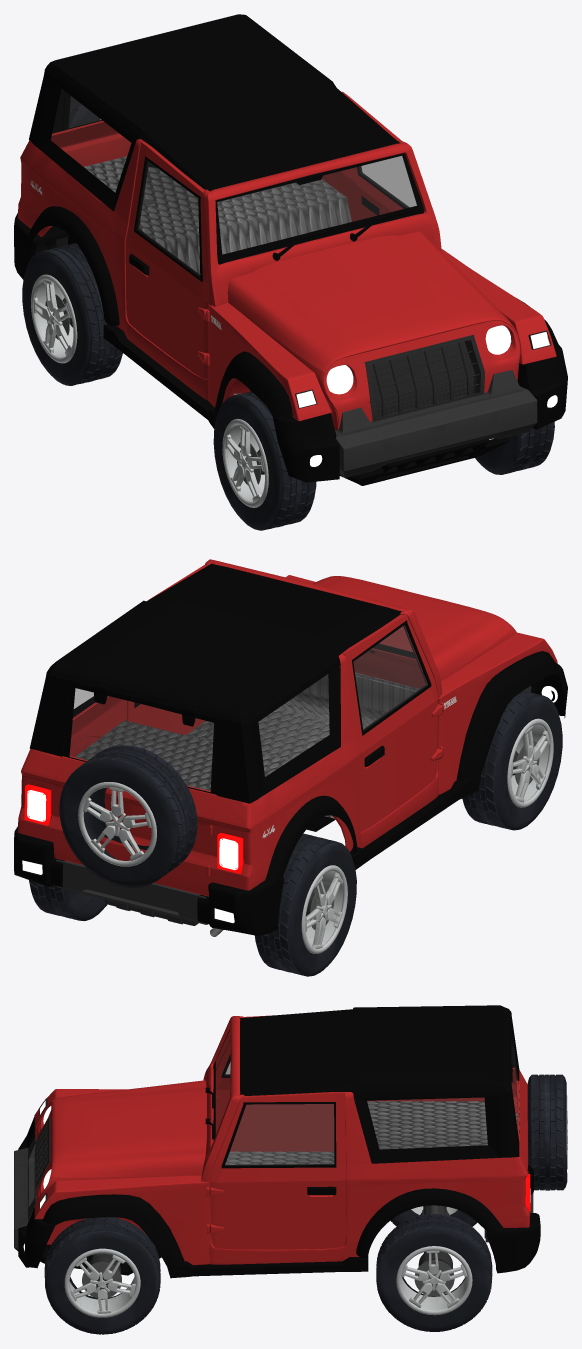
Rendered from 12-thar.glb.
3 renders of one model, top to bottom at view 1: azimuth 30°, elevation 25°; view 2: azimuth 150°, elevation 25°; view 3: azimuth 270°, elevation 25°, orthographic. The views are drawn at different scales.
Visible parts, largest first — view 1: Object_20, Object_16, Object_39, Object_41, Object_31, Object_6, Object_18, Object_45, Object_43, Object_4, Object_34, Object_47 (+11 smaller); view 2: Object_20, Object_31, Object_41, Object_39, Object_18, Object_6, Object_34, Object_47, Object_16, Object_43, Object_4, Object_27 (+5 smaller); view 3: Object_20, Object_31, Object_18, Object_41, Object_16, Object_39, Object_6, Object_47, Object_34, Object_5, Object_43, Object_45 (+9 smaller).
Boxes of the visible parts, x1,y1,x2,y2 form: Object_20: (29,14,399,428); Object_16: (227,231,511,372); Object_39: (51,89,416,276); Object_41: (18,131,441,400); Object_31: (22,96,554,530); Object_6: (84,156,503,394); Object_18: (125,91,403,379); Object_45: (335,370,537,477); Object_43: (14,213,567,482); Object_4: (208,302,331,421); Object_34: (31,119,493,507); Object_47: (28,176,558,418); Object_20: (29,563,480,869); Object_31: (29,690,562,976); Object_41: (17,559,442,896); Object_39: (70,625,427,791); Object_18: (127,564,443,875); Object_6: (75,672,419,818); Object_34: (78,718,553,953); Object_47: (93,651,559,879); Object_16: (312,576,512,680); Object_43: (14,663,567,935); Object_4: (438,632,557,794); Object_27: (55,755,216,895); Object_20: (167,1005,519,1278); Object_31: (44,1074,567,1334); Object_18: (206,1015,346,1249); Object_41: (201,1016,530,1264); Object_16: (50,1080,206,1177); Object_39: (216,1032,519,1165); Object_6: (156,1101,517,1176); Object_47: (42,1188,503,1266); Object_34: (64,1095,567,1317); Object_5: (34,1175,209,1265); Object_43: (18,1117,540,1273); Object_45: (14,1135,39,1251).
Bounding box in the file's own units: 14.52 × 13.63 × 28.9.
36 materials, 22 textured.
